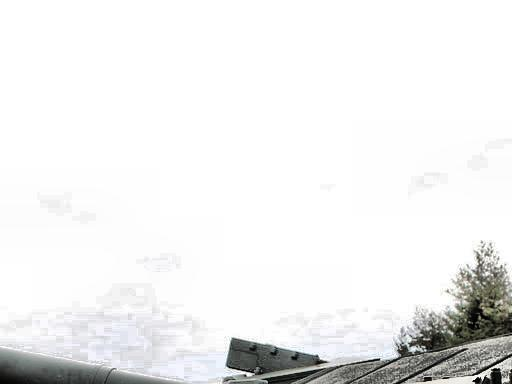tanks: (220, 335, 512, 384), (1, 350, 180, 384)
